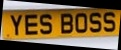character: (24, 13, 38, 35), (59, 12, 73, 34), (74, 12, 88, 33), (9, 13, 22, 35), (102, 10, 115, 32), (39, 13, 52, 34), (88, 11, 101, 32)
